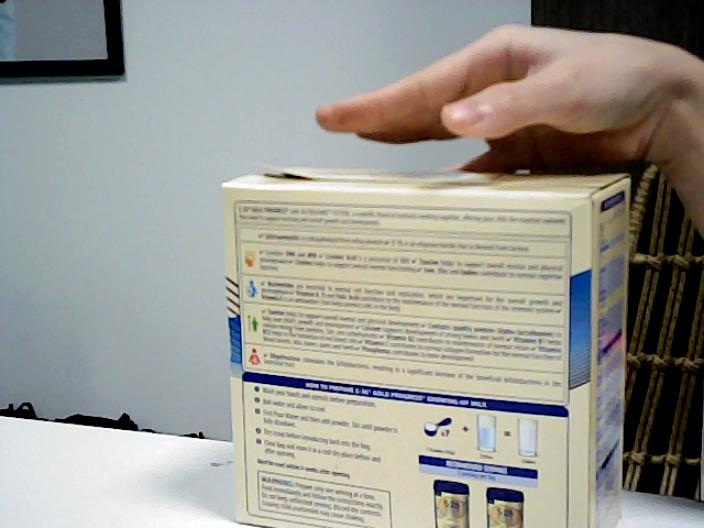Babymilk-powder_200-299g_Halal_NonHealthy: (224, 169, 629, 528)
